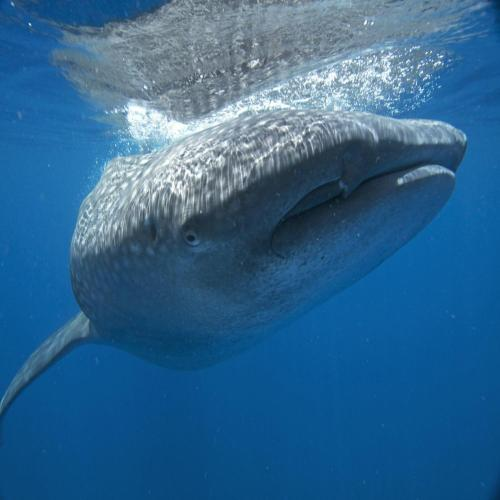shark-endangered: (0, 103, 467, 417)
